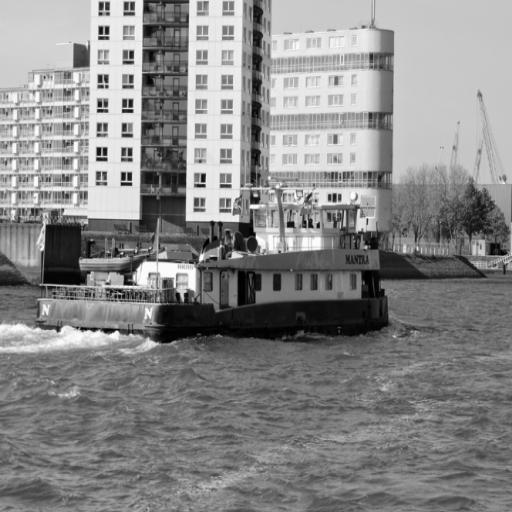tugboat: (34, 177, 397, 358)
